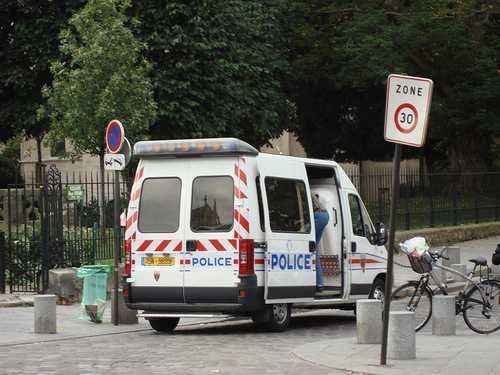Police Van: (100, 120, 402, 322)
